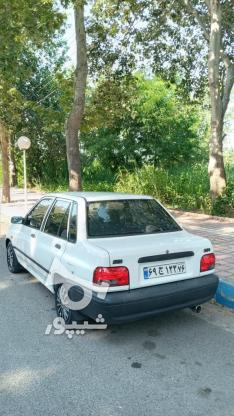car: (143, 262, 188, 277)
